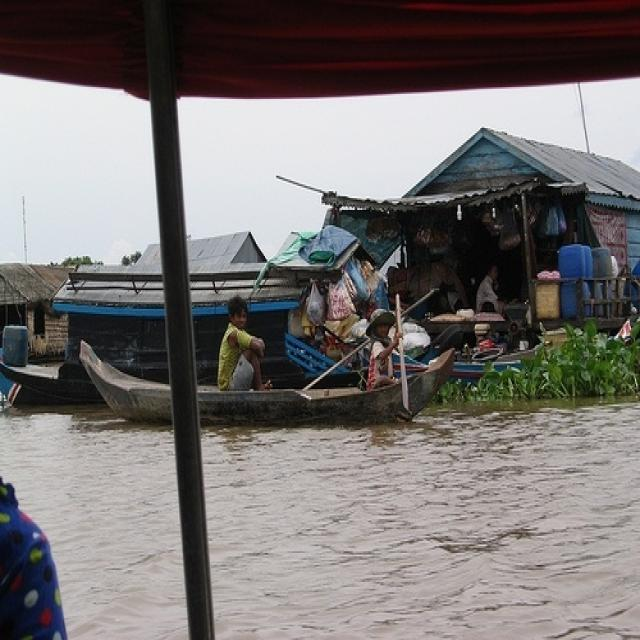Hyacinth: (490, 333, 640, 410)
boat: (81, 351, 451, 428)
